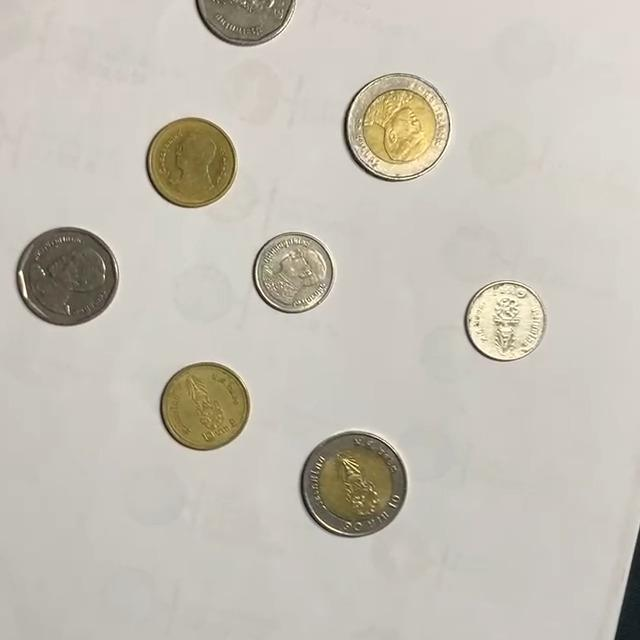1-baht: (465, 280, 549, 363), (253, 232, 336, 314)
10-baht: (345, 71, 454, 181), (300, 432, 408, 538)
2-baht: (146, 116, 239, 208), (160, 362, 251, 451)
5-baht: (15, 226, 121, 326), (194, 0, 297, 47)
